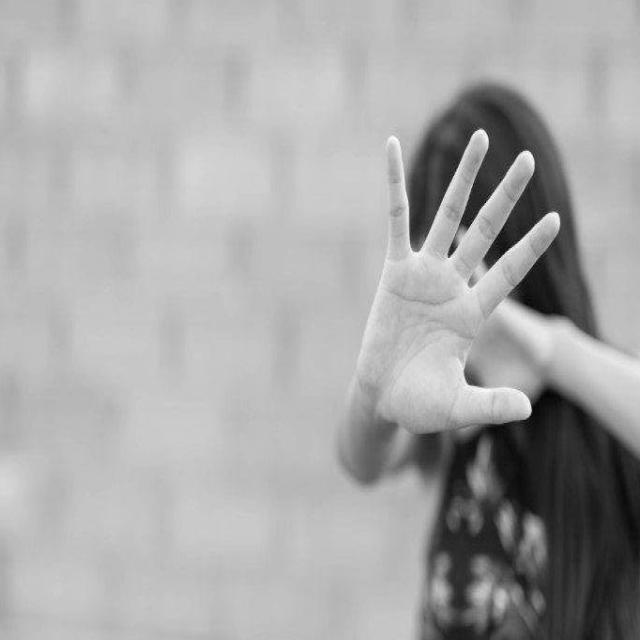stop: (352, 123, 565, 443)
